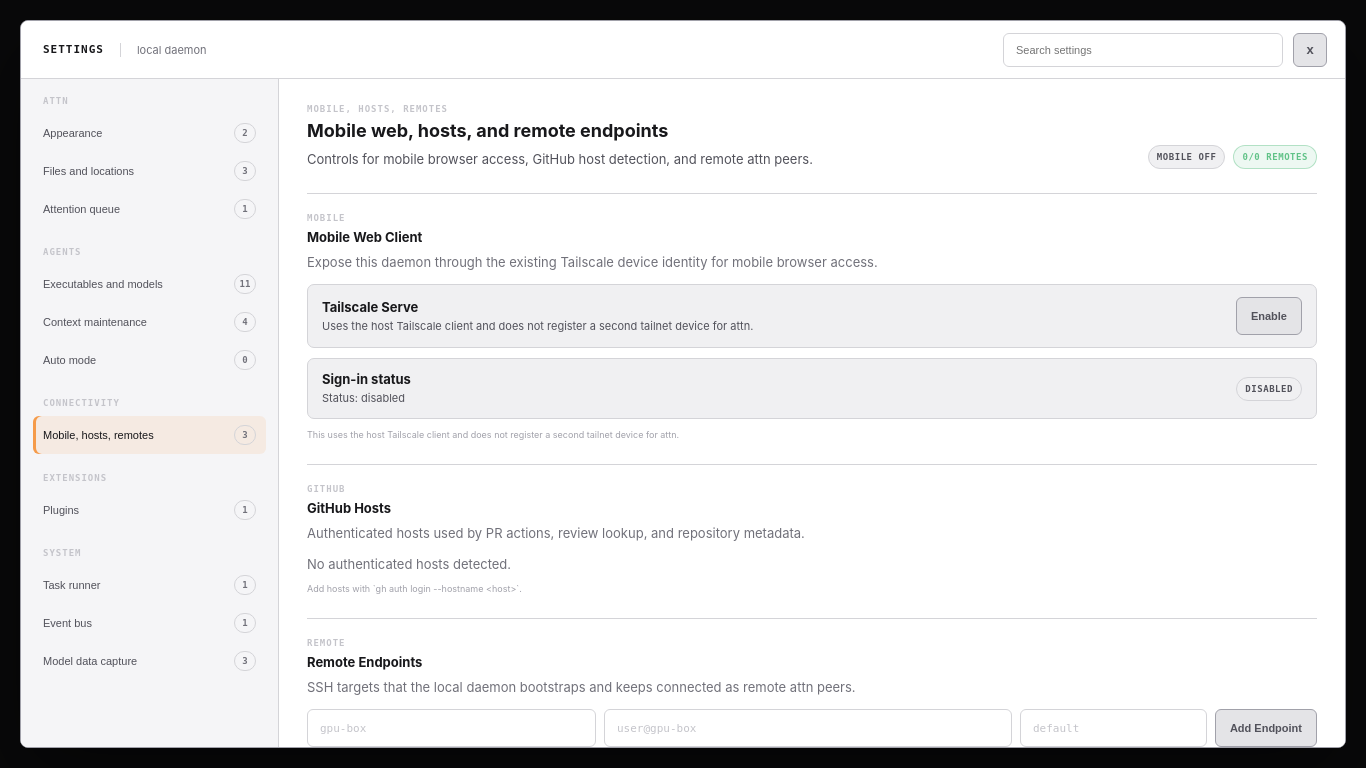
Scenario: SettingsModal › shows plugin agents without offering attn-owned executable overrides
Click the button with test id "settings-nav-agents" at (150, 284), box x1=33 y1=265 x2=266 y2=303
(page scrolled)
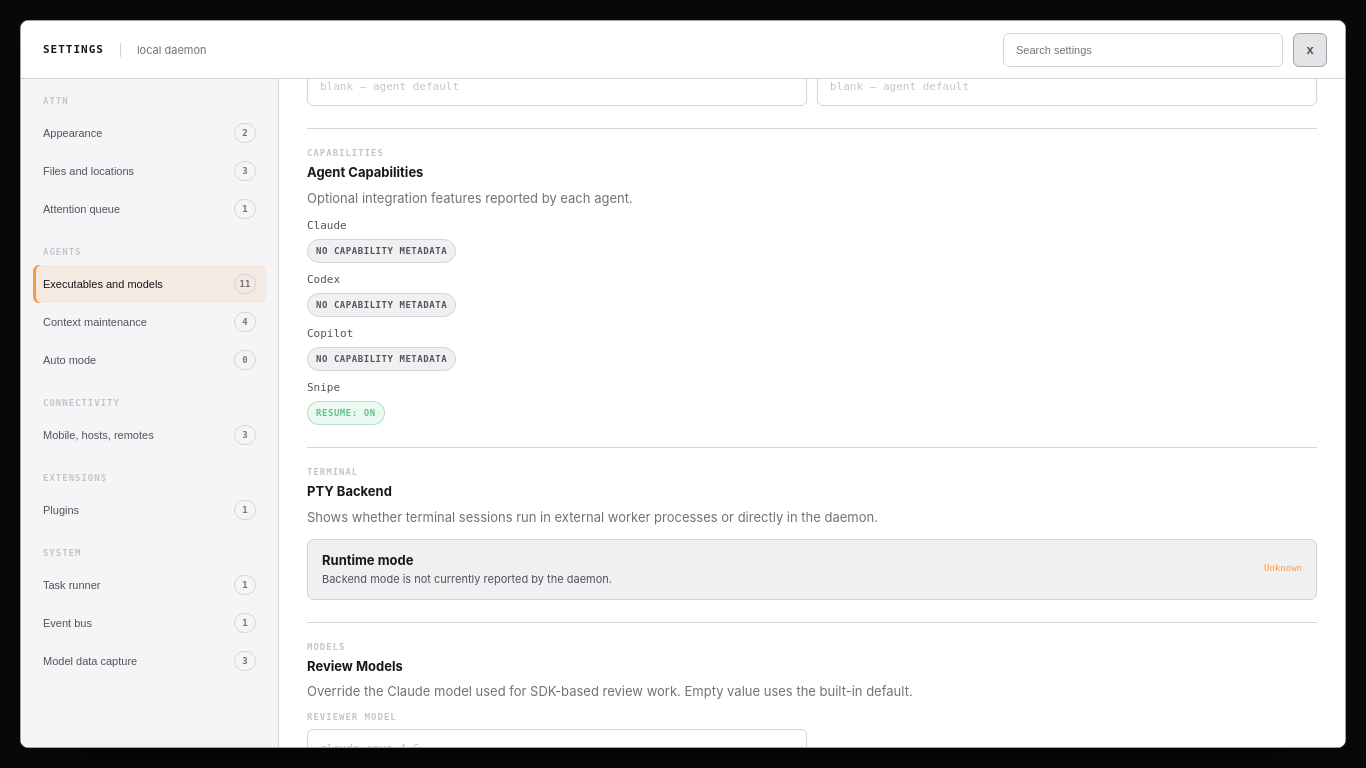
Expected: the text "Resume: on" is shown, x1=307 y1=401 x2=385 y2=425
